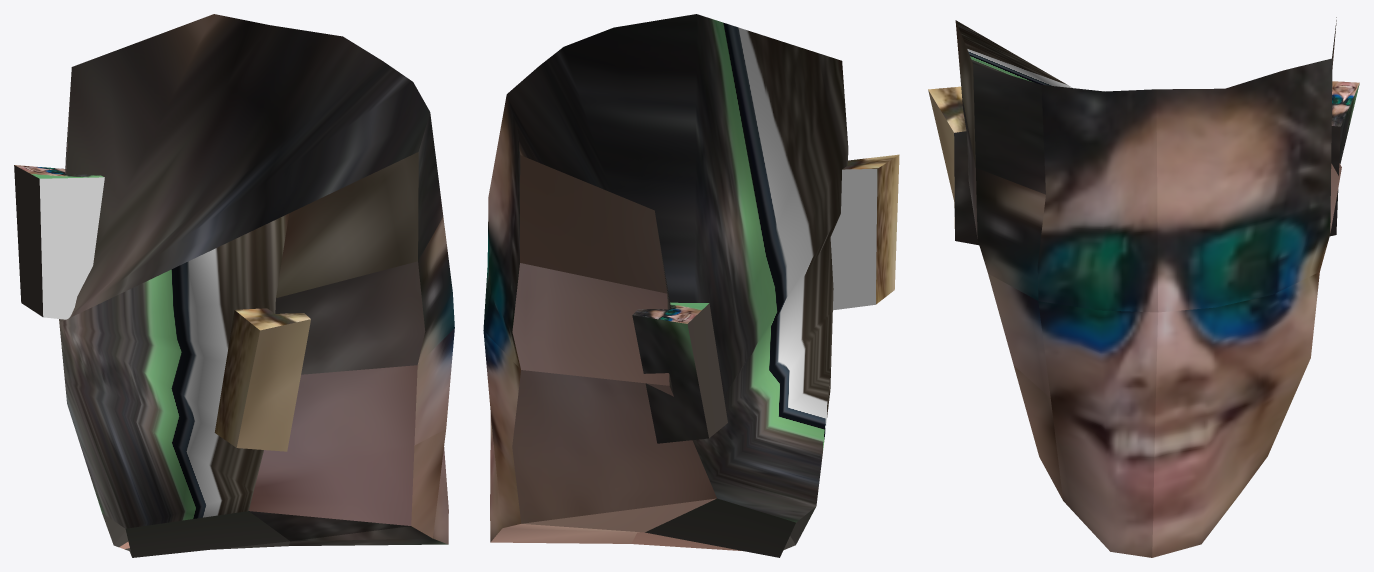
The model's file is shreyasmourya2.fbx.
3 renders of one model, left to right at view 1: azimuth 30°, elevation 25°; view 2: azimuth 150°, elevation 25°; view 3: azimuth 270°, elevation 25°, orthographic. The views are drawn at different scales.
Visible parts, largest first — view 1: Cylinder; view 2: Cylinder; view 3: Cylinder.
Part boxes in pixels (x1=…): Cylinder: x1=14, y1=14, x2=454, y2=557; Cylinder: x1=483, y1=14, x2=899, y2=557; Cylinder: x1=928, y1=17, x2=1359, y2=557.
Bounding box in the file's own units: 59.67 × 84.53 × 74.22.
Materials: 1 (1 with a texture image).
